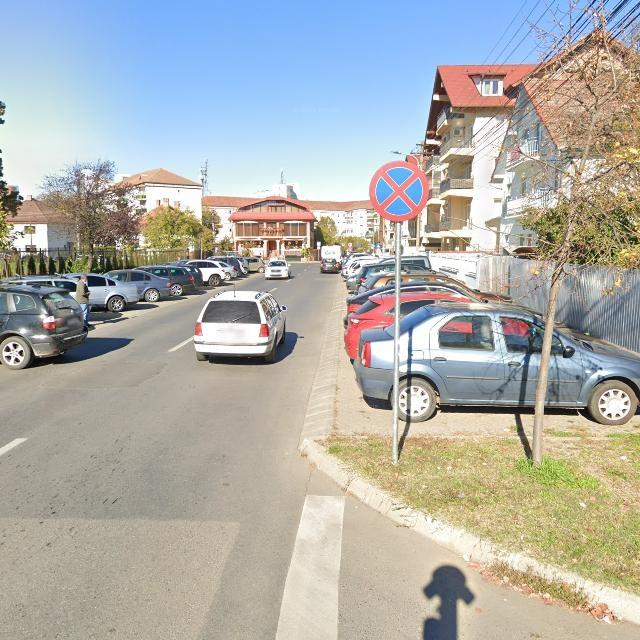forb_waiting: (367, 163, 430, 219)
